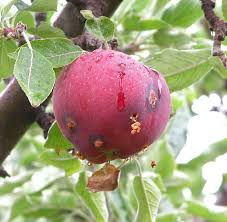damaged_apple: (53, 51, 176, 165)
